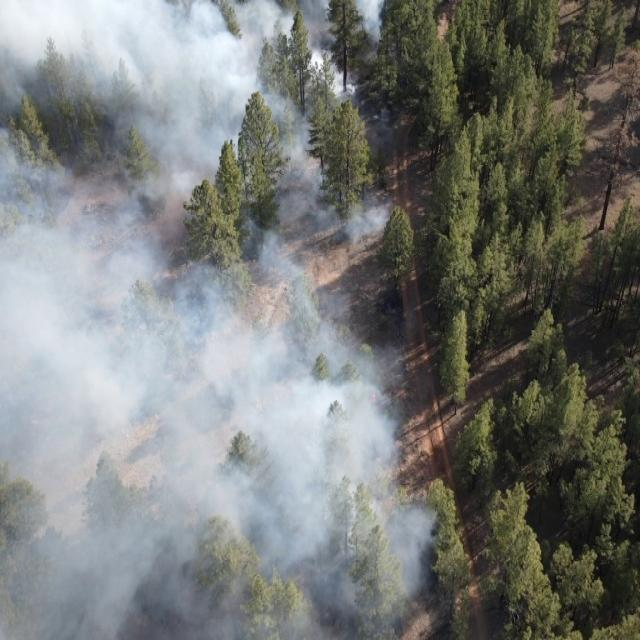fire: (368, 392, 380, 406)
smoke: (0, 0, 399, 640), (400, 495, 442, 610)
